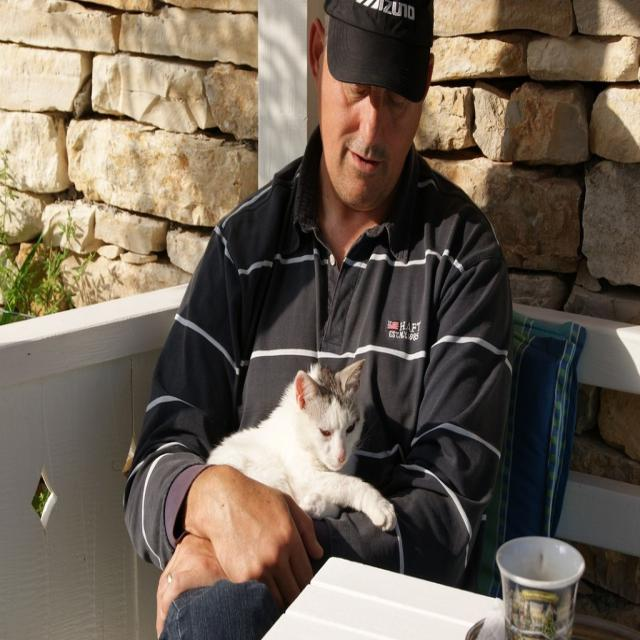Cat: (207, 356, 399, 532)
